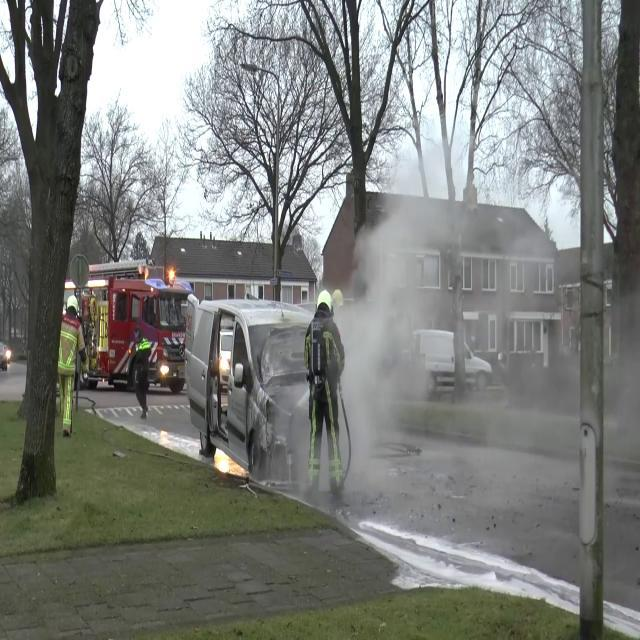Smoke: (334, 139, 578, 527)
